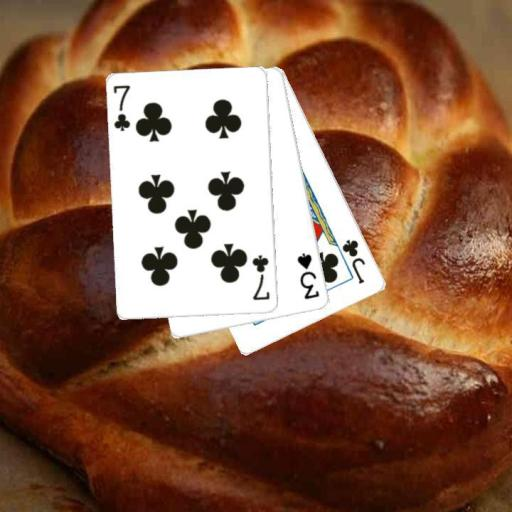3S: (295, 251, 322, 302)
7C: (110, 82, 132, 133), (250, 253, 272, 303)
JC: (339, 236, 368, 286)
